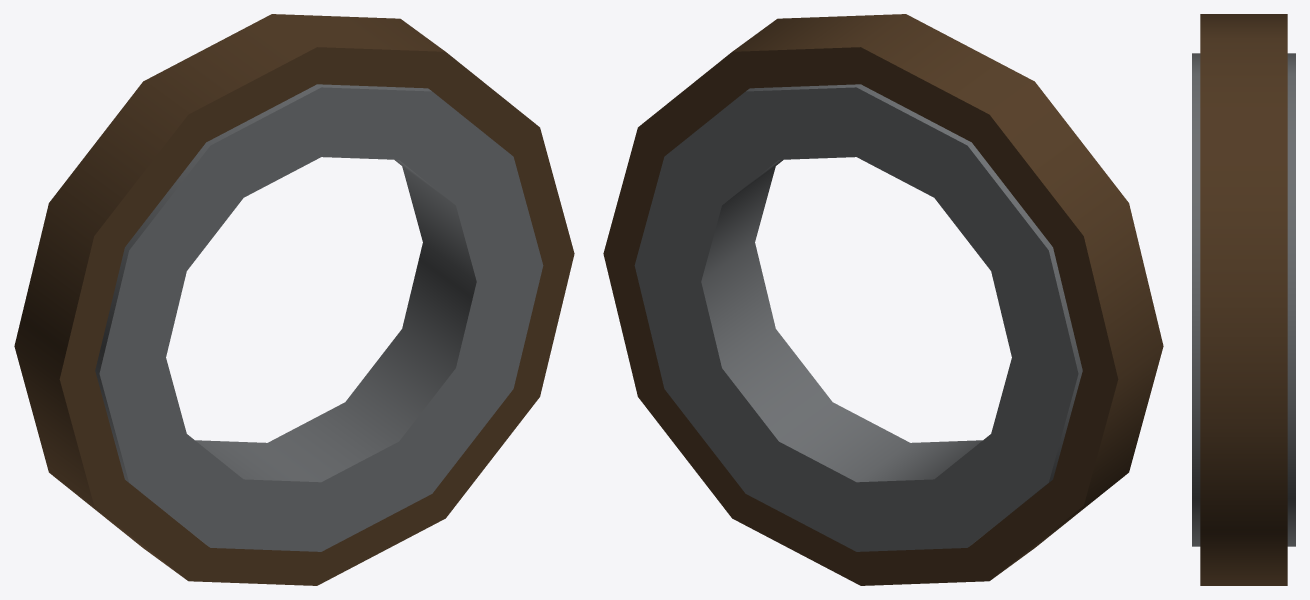
Rendered from u33_coil_ring.obj.
3 renders of one model, left to right at view 1: azimuth 30°, elevation 25°; view 2: azimuth 150°, elevation 25°; view 3: azimuth 270°, elevation 25°, orthographic. The views are drawn at different scales.
Visible parts, largest first — view 1: u33_coil_ring; view 2: u33_coil_ring; view 3: u33_coil_ring.
Part boxes in pixels (bbox=[...]): u33_coil_ring: bbox=[14, 14, 574, 585]; u33_coil_ring: bbox=[603, 14, 1163, 585]; u33_coil_ring: bbox=[1192, 14, 1295, 585].
Size of the model in its own units: 3.48 by 3.48 by 0.63.
